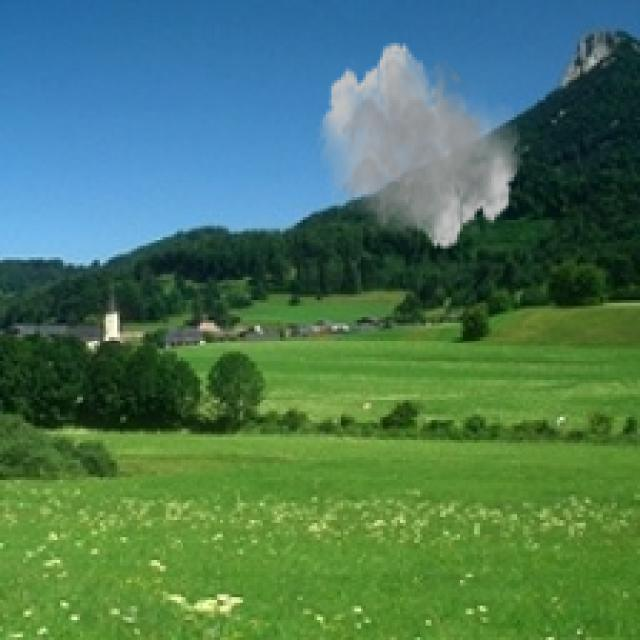Smoke: (317, 40, 523, 252)
